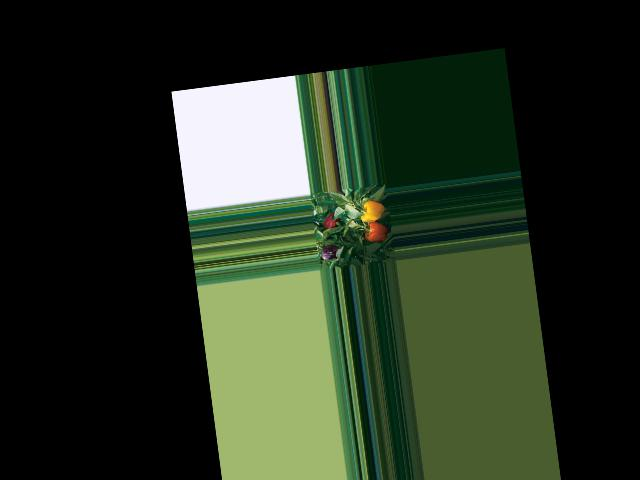bell_pepper: (357, 199, 386, 228)
